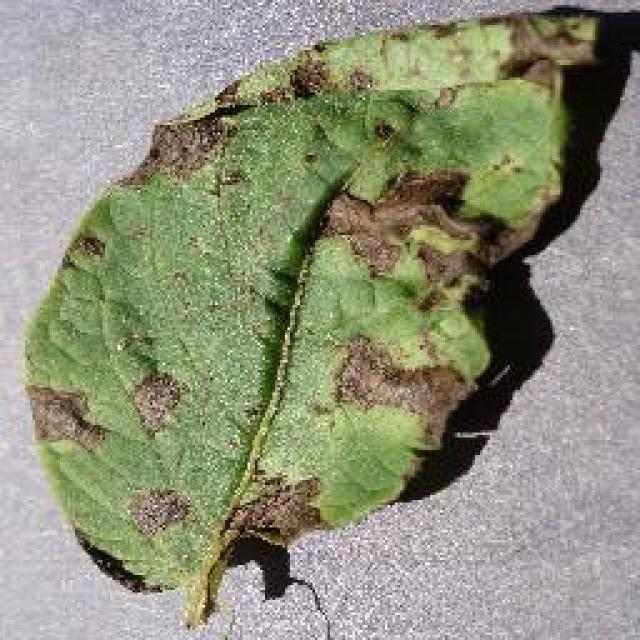Potato___Early_blight: (0, 0, 608, 640)
